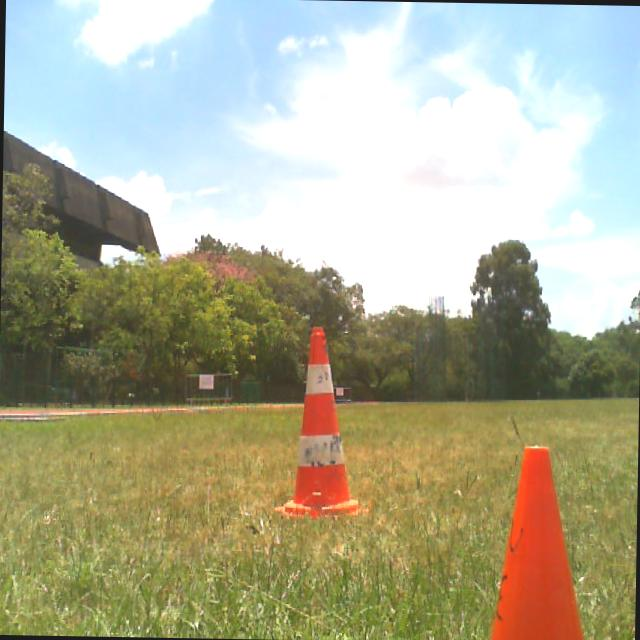cone: (488, 444, 587, 640), (274, 325, 362, 518)
